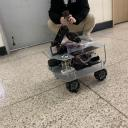cart: (47, 39, 108, 93)
